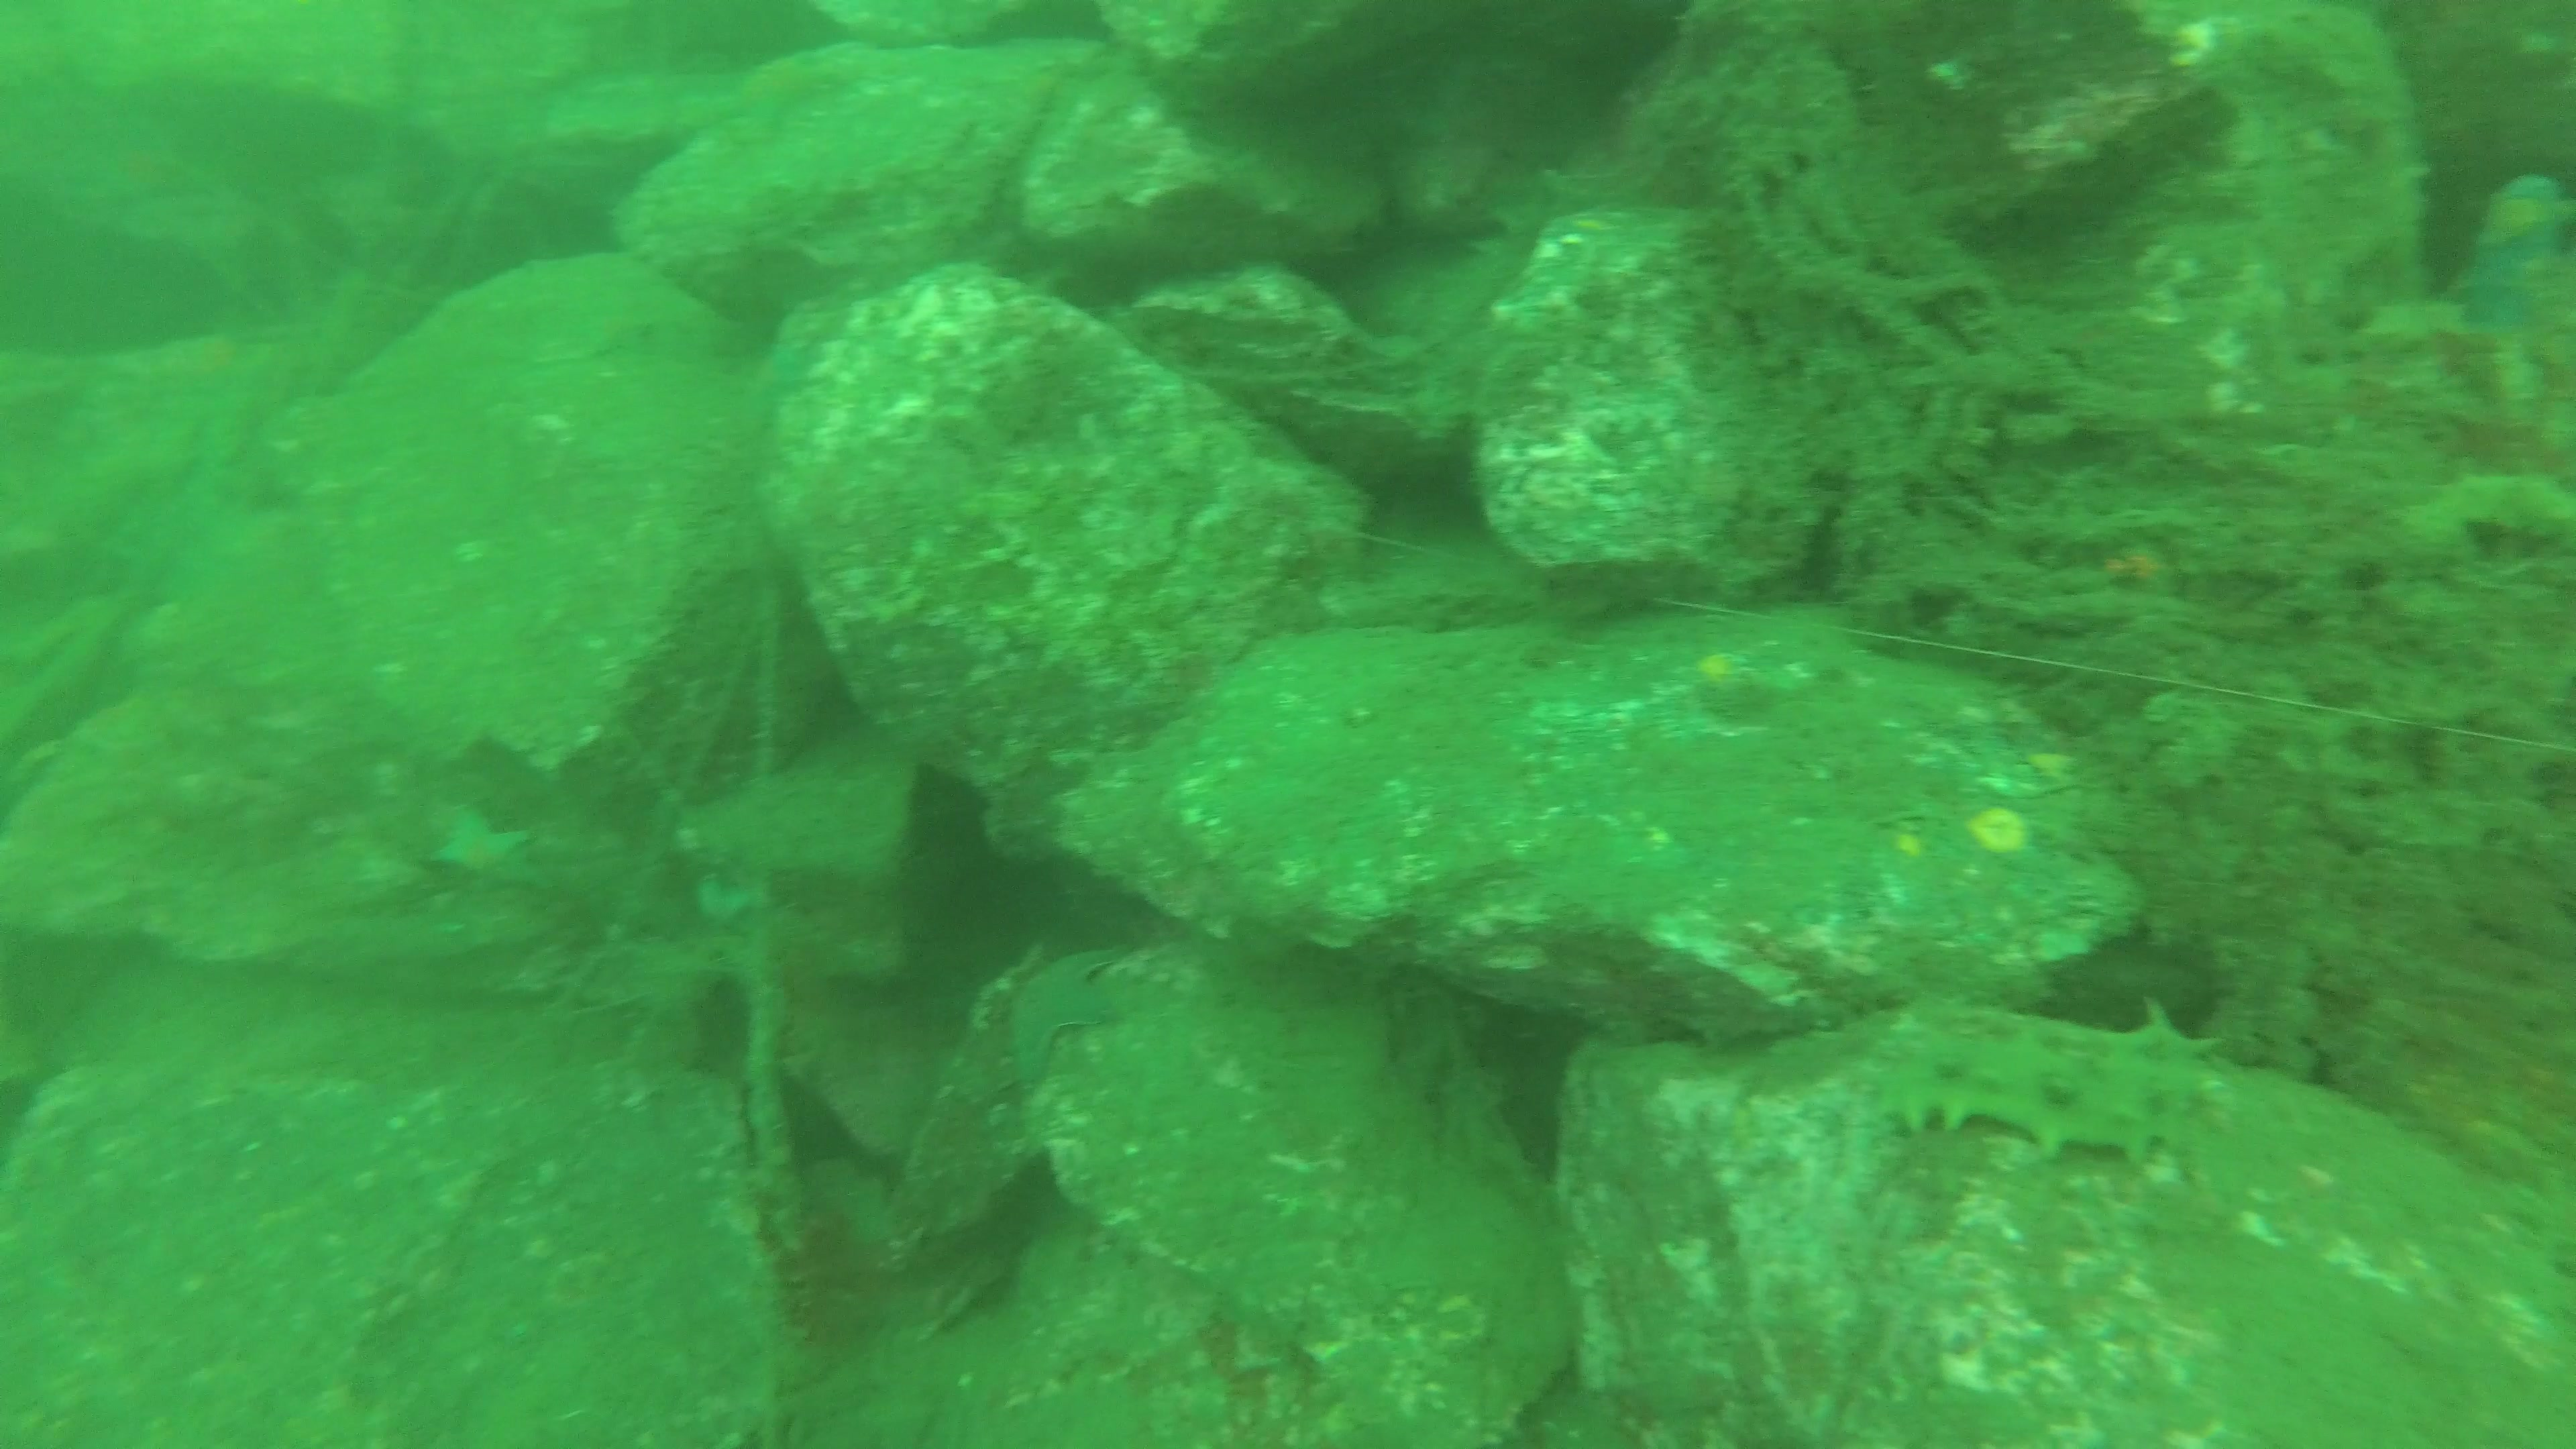holothurian: (1884, 993, 2227, 1164)
starfish: (1008, 952, 1115, 1092)
